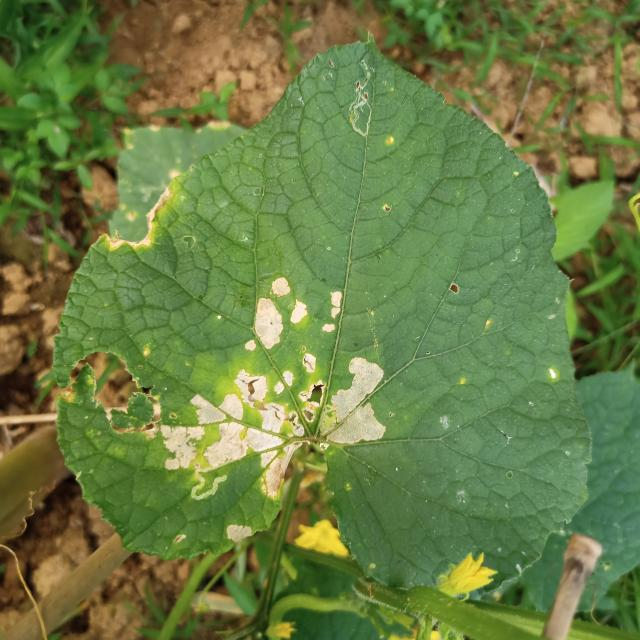disease_cucumber: (160, 270, 396, 480)
